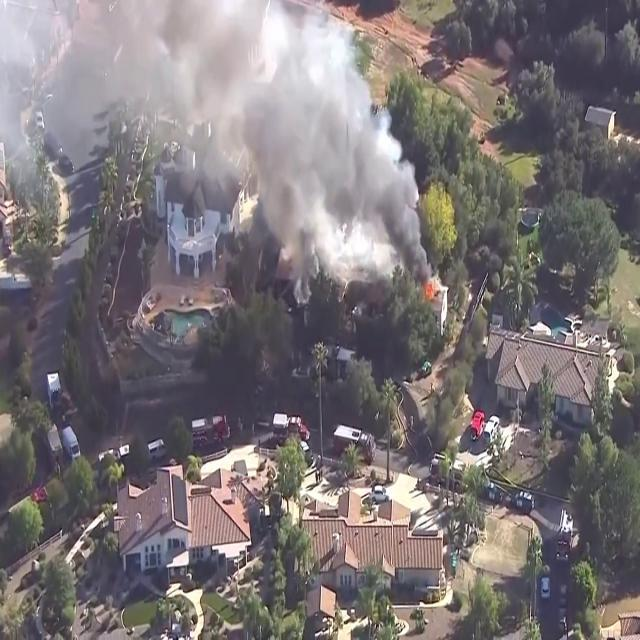Smoke: (137, 0, 436, 279)
